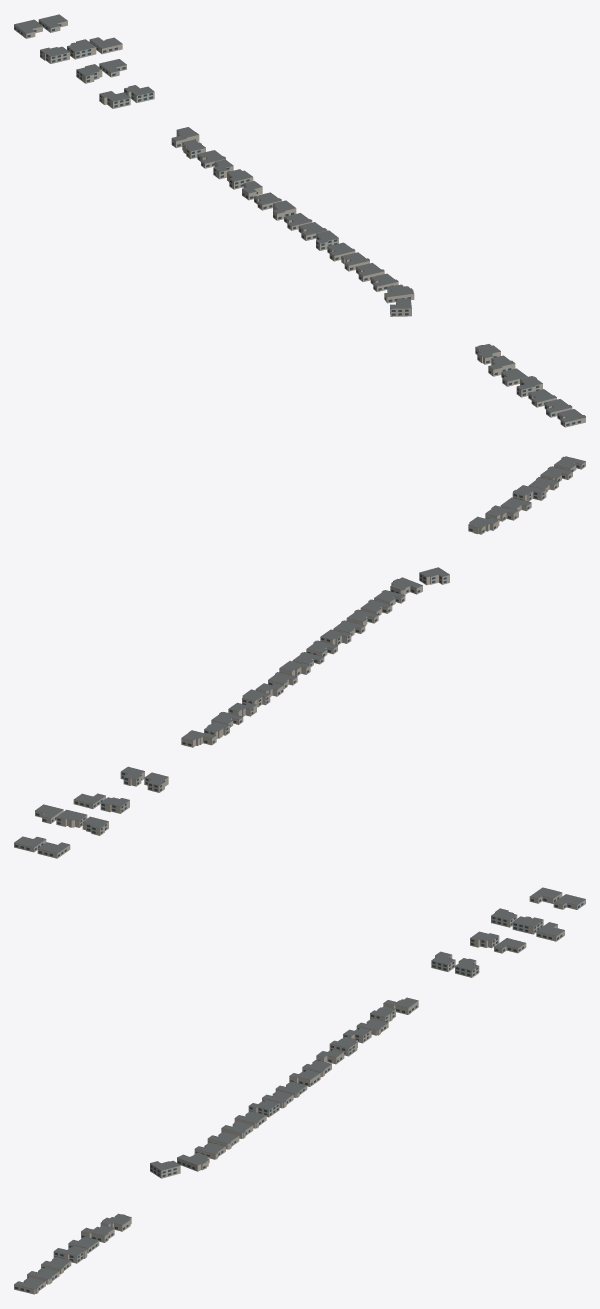
3 renders of one model, top to bottom at view 1: azimuth 30°, elevation 25°; view 2: azimuth 150°, elevation 25°; view 3: azimuth 330°, elevation 25°, orthographic.
Parts seen in each view (by area): view 1: Buildings (5, 7) Roof membrane, Buildings (5, 7) Masonry brick, Buildings (5, 7) Architectural tinted glass, Buildings (5, 7) Metal coping; view 2: Buildings (5, 7) Roof membrane, Buildings (5, 7) Masonry brick, Buildings (5, 7) Metal coping, Buildings (5, 7) Architectural tinted glass; view 3: Buildings (5, 7) Roof membrane, Buildings (5, 7) Masonry brick, Buildings (5, 7) Architectural tinted glass, Buildings (5, 7) Metal coping.
Part boxes in pixels (left/top/right/bottom): Buildings (5, 7) Roof membrane: left=14, top=14, right=585, bottom=422; Buildings (5, 7) Masonry brick: left=14, top=20, right=585, bottom=427; Buildings (5, 7) Architectural tinted glass: left=14, top=21, right=580, bottom=425; Buildings (5, 7) Metal coping: left=14, top=14, right=585, bottom=422; Buildings (5, 7) Roof membrane: left=14, top=456, right=585, bottom=853; Buildings (5, 7) Masonry brick: left=14, top=458, right=585, bottom=858; Buildings (5, 7) Metal coping: left=14, top=456, right=585, bottom=853; Buildings (5, 7) Architectural tinted glass: left=15, top=465, right=584, bottom=856; Buildings (5, 7) Roof membrane: left=14, top=887, right=585, bottom=1289; Buildings (5, 7) Masonry brick: left=14, top=893, right=585, bottom=1294; Buildings (5, 7) Architectural tinted glass: left=15, top=897, right=583, bottom=1291; Buildings (5, 7) Metal coping: left=14, top=887, right=585, bottom=1289.
Bounding box in the file's own units: 63.26 × 8.31 × 826.
